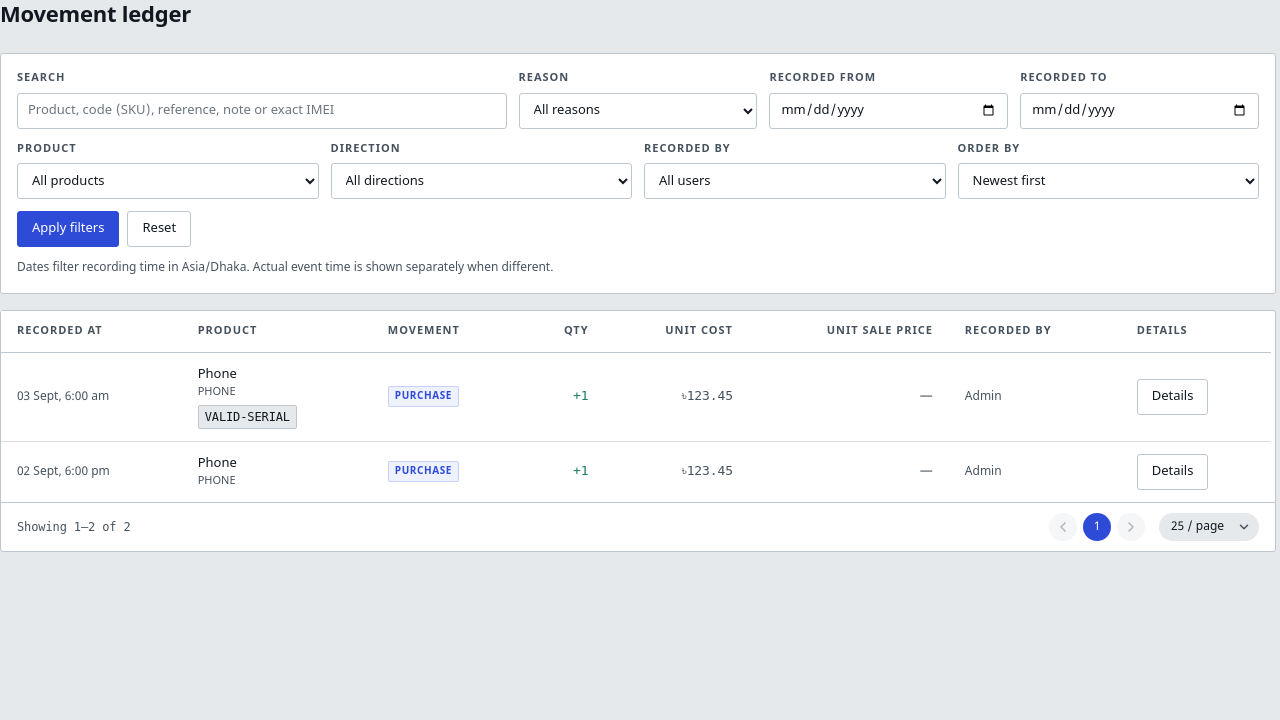
Test: ledger filters and results › keeps serials readable, includes years, and provides desktop and mobile details
Expected: the table does not show "2026"
Expected: the table shows "Unit cost", [665,324,733,338]
Click the button "Details" in the row of "03 Sept, 6:00 am" at coordinates (1173, 396), box [1137,378,1208,414]
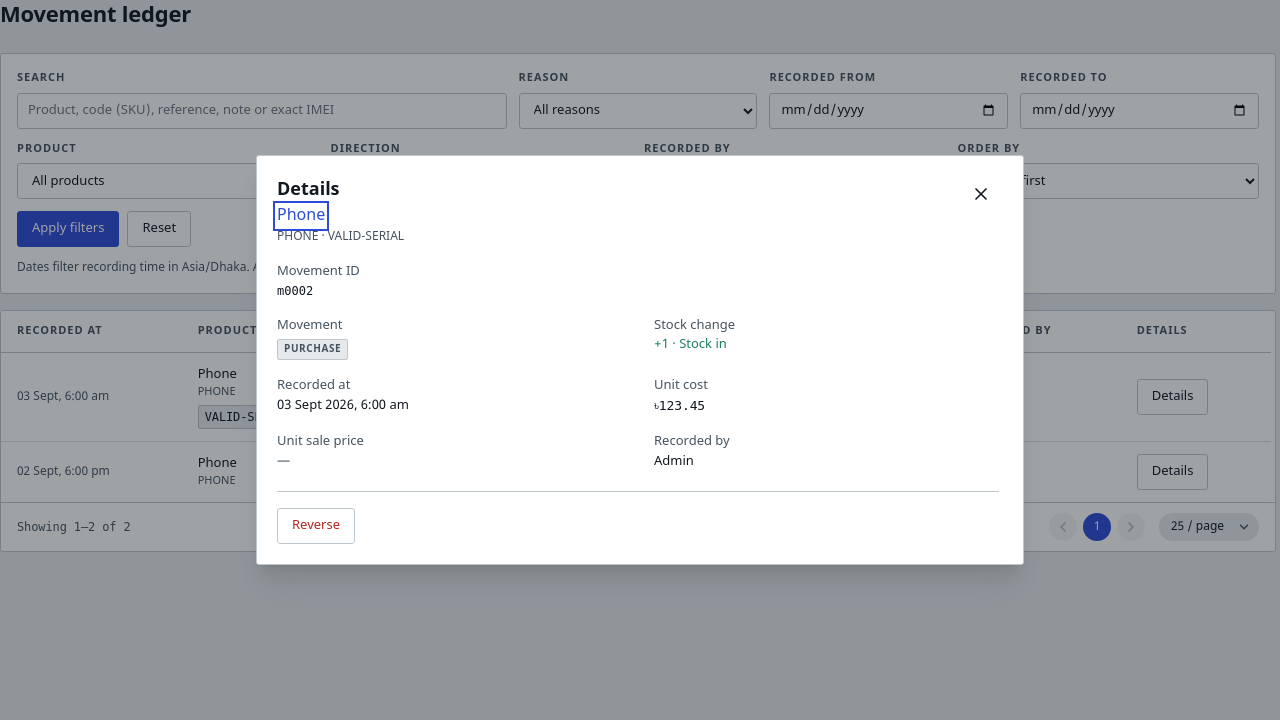
Result: the dialog shows "Movement ID" at [277,263,360,280]
Result: the dialog shows "Stock change" at [654,316,735,334]
Result: the dialog shows "2026" at [277,396,409,414]
Click the button named "Close" at coordinates (981, 194), box [963,176,999,212]
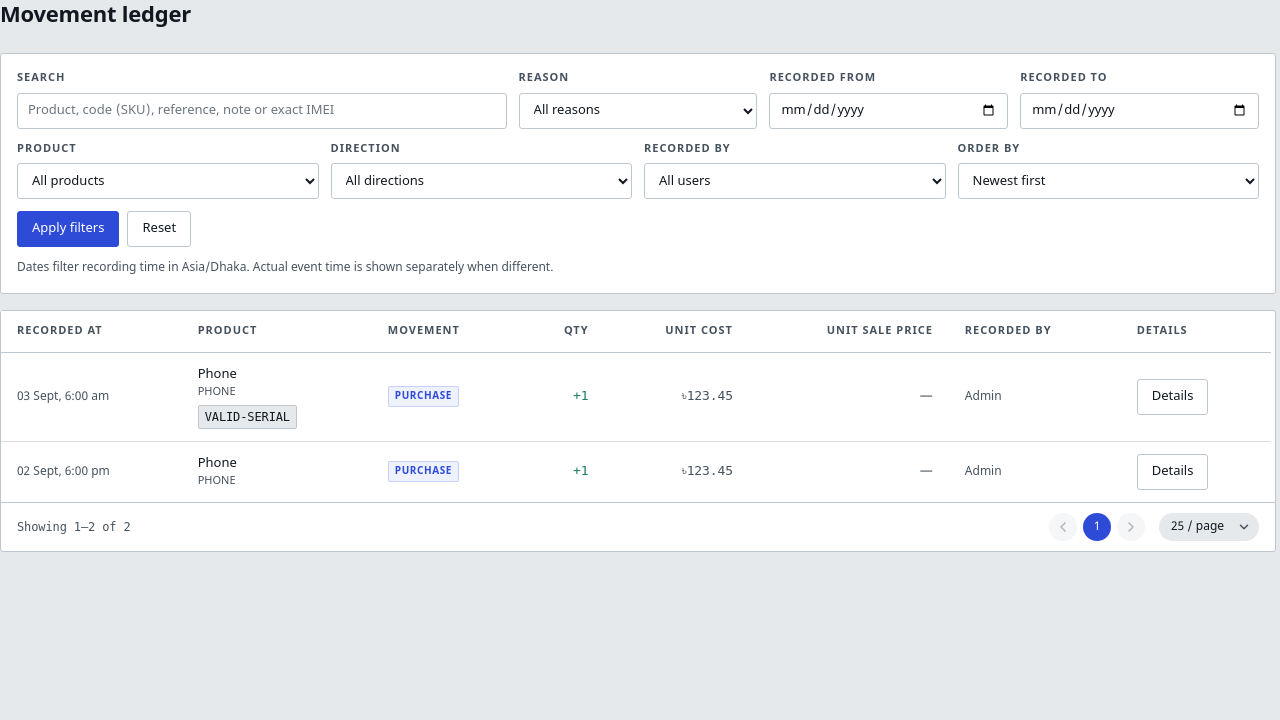
Result: the dialog is gone
Click the button "Details" in the row of "03 Sept, 6:00 am" at coordinates (1173, 396), box [1137,378,1208,414]
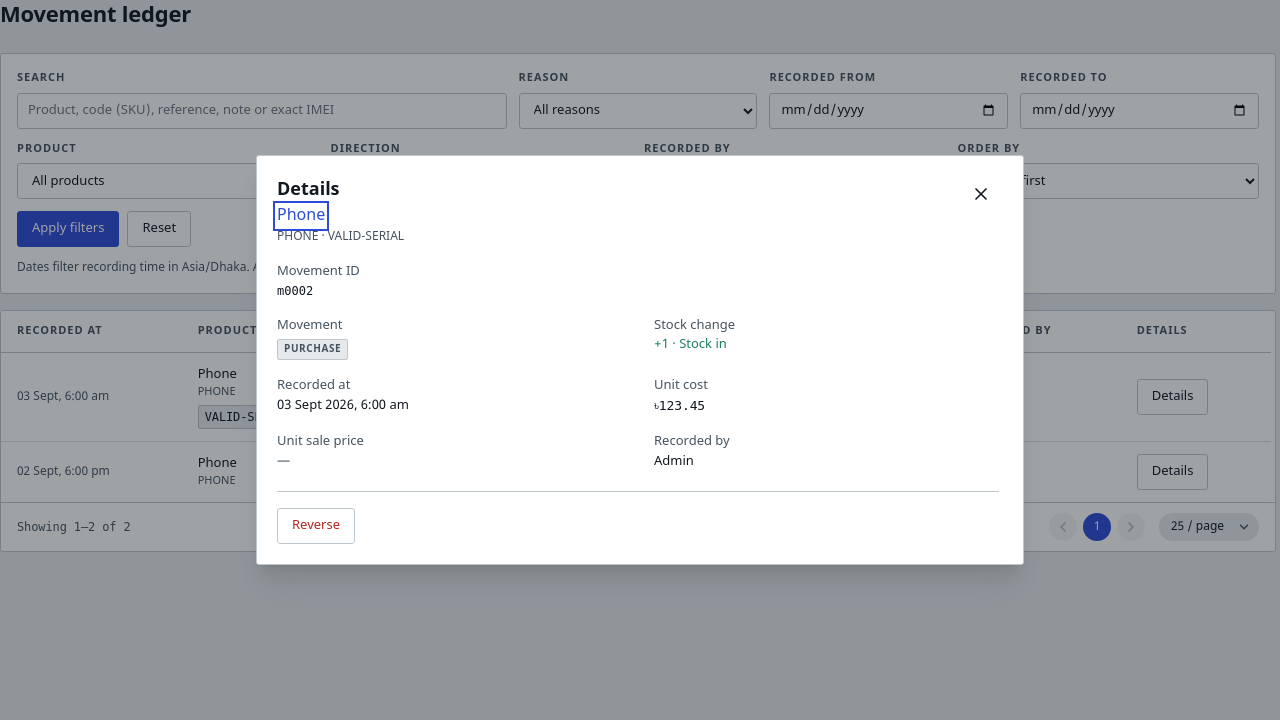
Press the mouse on the dialog at coordinates (640, 360), box [256,155,1024,565]
Result: the dialog is shown at [256,155,1024,565]
Press the mouse on the element that starts with "Details" at coordinates (640, 360), box [0,0,1279,719]
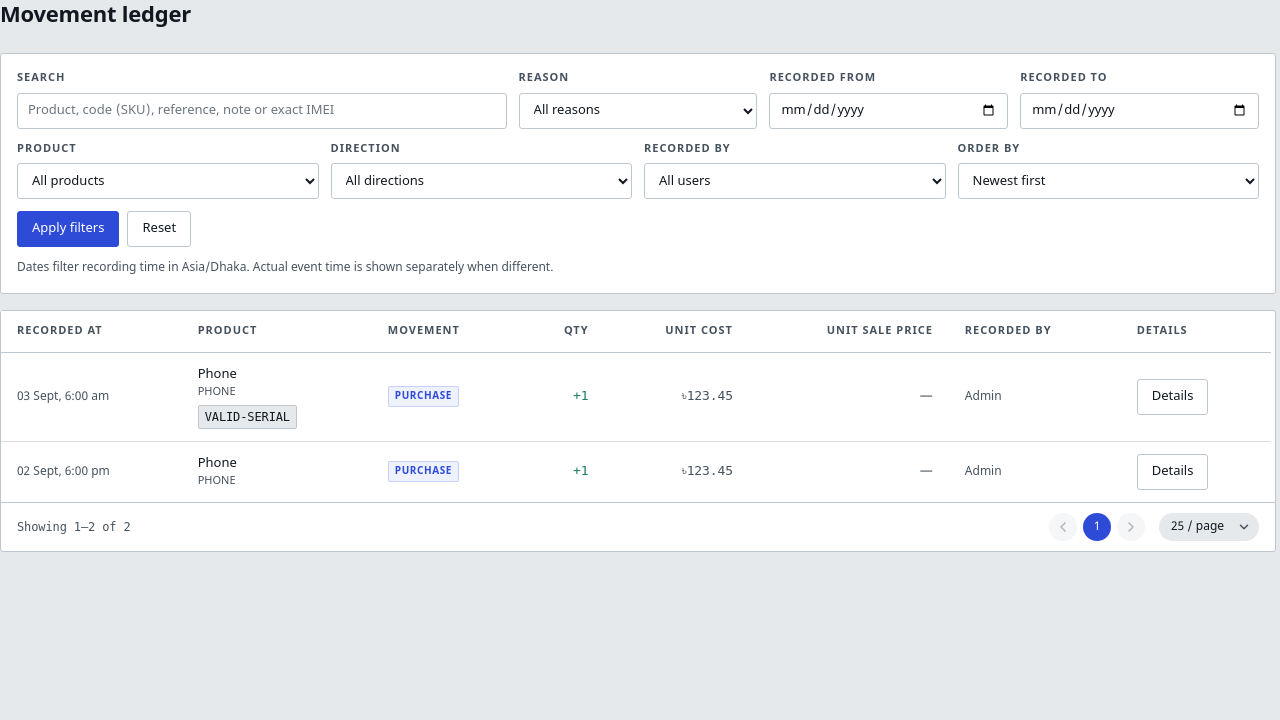
Result: the dialog is gone
